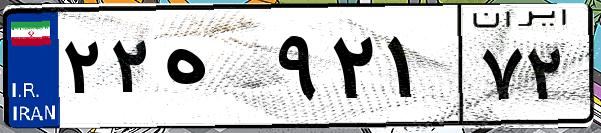1: (385, 28, 445, 110)
2: (330, 28, 385, 110), (57, 26, 110, 100), (525, 38, 570, 115), (110, 28, 158, 98)
7: (475, 38, 525, 113)
9: (270, 28, 330, 110)
ه: (158, 20, 270, 120)
